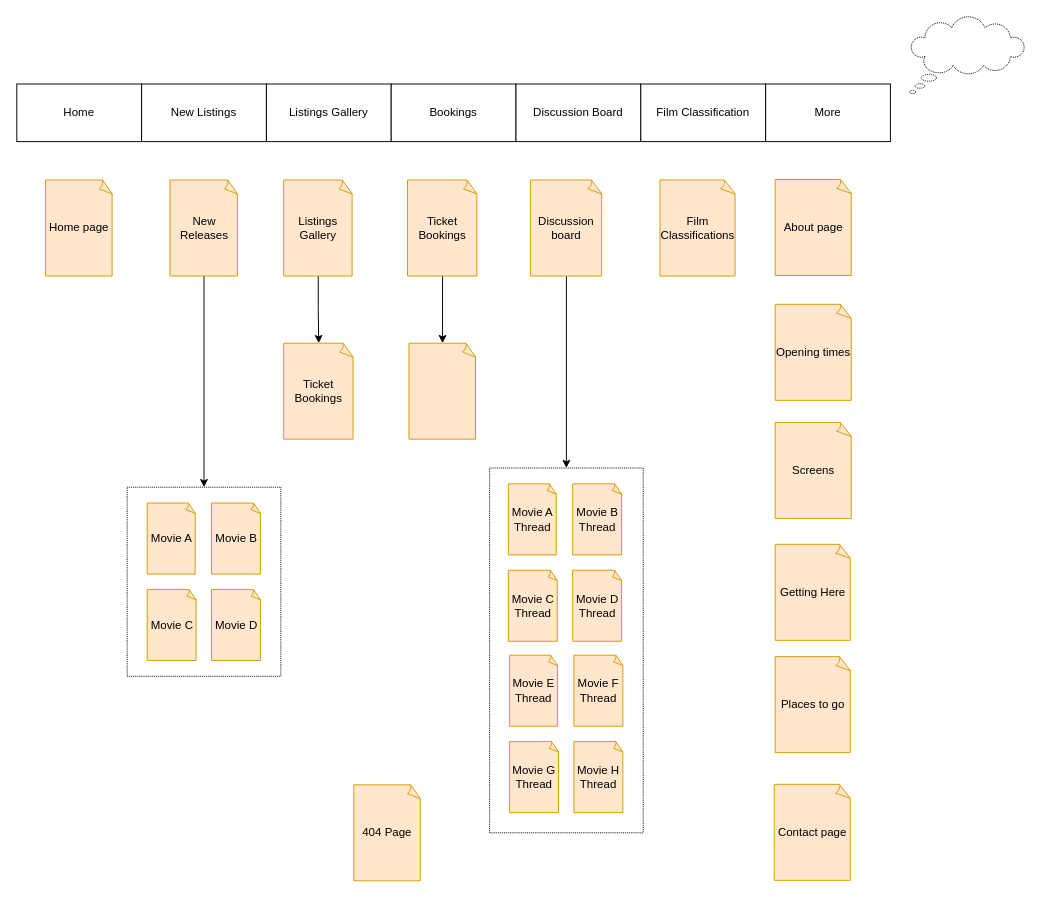
This 1042x898 diagram has some shape labels left out. Each missing label, with the box of its shape:
Navbar: (909, 16, 1025, 94)
Payment: (408, 342, 476, 439)
